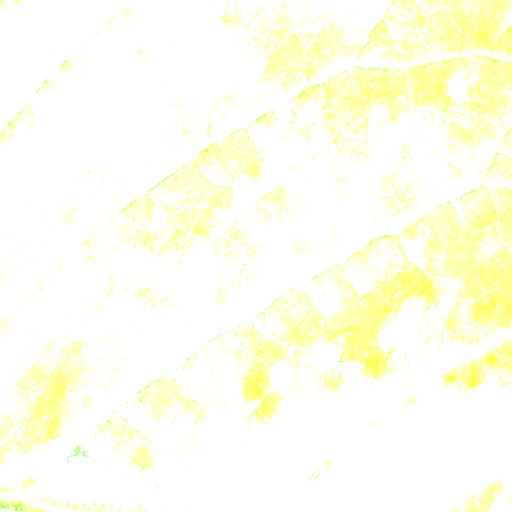Angular Leafspot: (0, 0, 511, 511)
